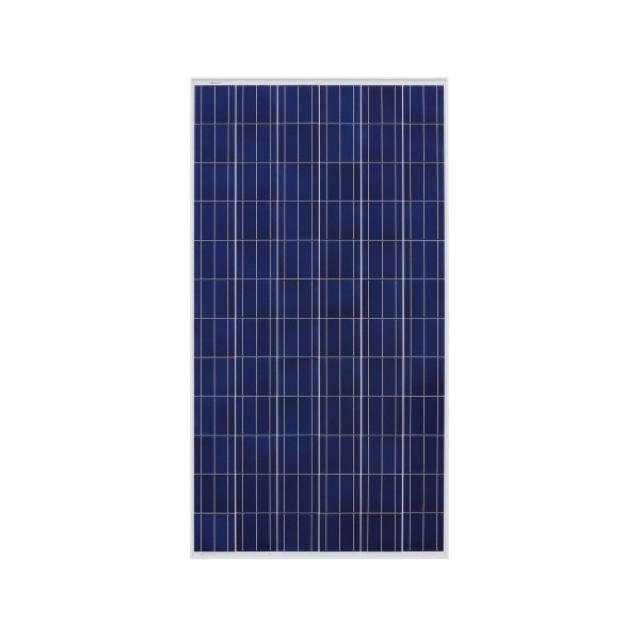clean-solar-panel: (192, 80, 446, 556)
